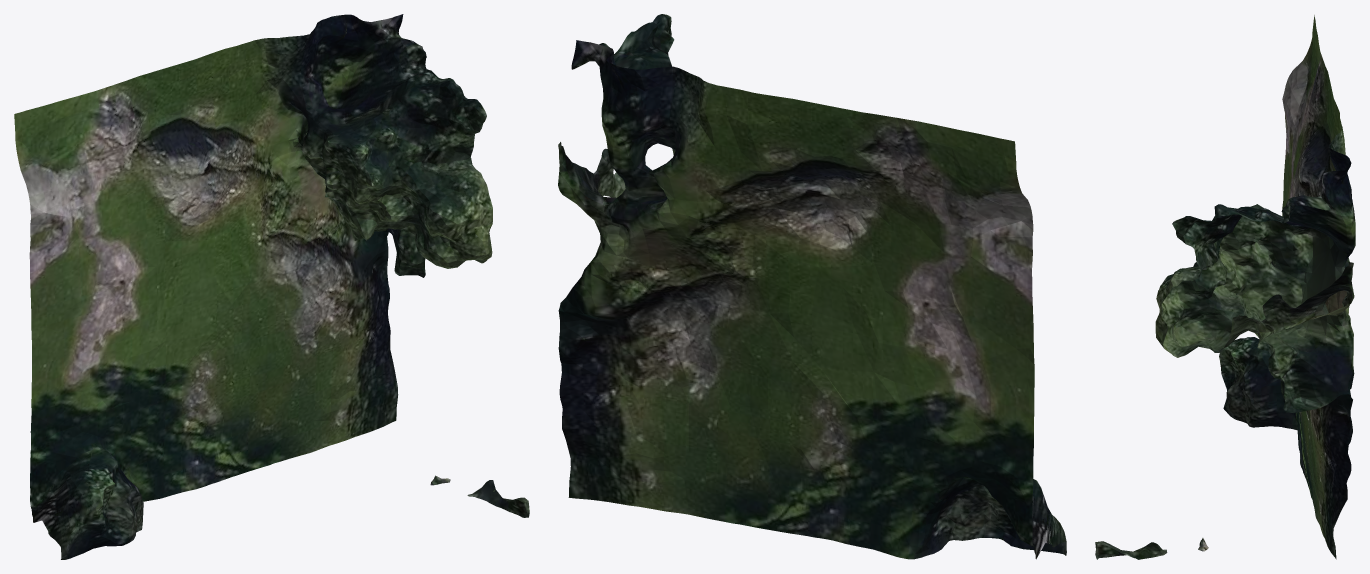
File: Tile_+031_+022_L21_00023300.obj
3 renders of one model, left to right at view 1: azimuth 30°, elevation 25°; view 2: azimuth 150°, elevation 25°; view 3: azimuth 270°, elevation 25°, orthographic. The views are drawn at different scales.
Bounding box in the file's own units: 31.38 × 31.31 × 19.87.
Materials: 1 (1 with a texture image).
